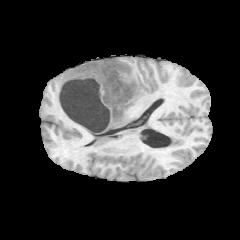glioma: (57, 59, 175, 145)
